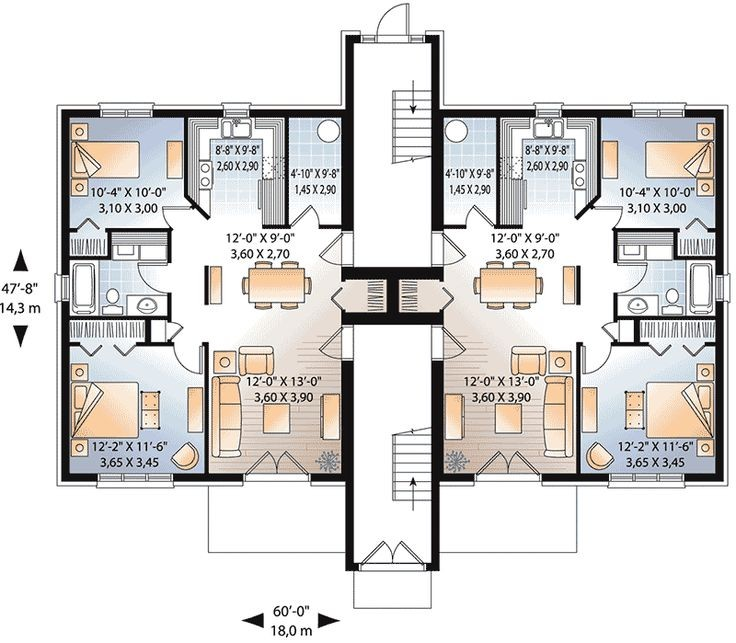door: (362, 527, 428, 581), (477, 439, 539, 493), (244, 443, 304, 481), (367, 1, 419, 44), (614, 254, 657, 301), (158, 192, 197, 236), (315, 321, 359, 360), (168, 333, 204, 377), (296, 201, 329, 240), (586, 334, 613, 380), (318, 232, 350, 260), (594, 203, 630, 226), (445, 328, 470, 361), (442, 243, 471, 265)
room: (443, 235, 584, 491), (205, 250, 349, 488), (63, 315, 209, 481), (579, 318, 727, 481), (432, 117, 594, 238), (190, 121, 349, 242), (597, 117, 719, 257), (66, 113, 185, 243), (58, 243, 201, 321), (605, 224, 720, 319)
wall: (339, 355, 364, 573), (427, 29, 453, 234), (338, 31, 363, 232), (710, 303, 732, 484), (709, 108, 733, 273), (57, 304, 77, 488), (432, 355, 449, 570), (56, 102, 76, 272), (339, 261, 450, 288), (615, 308, 718, 333), (572, 339, 589, 479), (179, 117, 201, 215), (66, 309, 174, 328), (435, 100, 529, 121), (565, 100, 635, 128), (279, 120, 296, 233), (492, 108, 507, 229), (255, 107, 355, 123), (174, 471, 249, 492), (542, 469, 610, 491), (306, 467, 361, 493), (592, 112, 606, 200), (152, 101, 225, 117), (62, 95, 102, 120), (690, 102, 728, 127), (674, 243, 721, 263), (612, 222, 682, 235), (347, 316, 448, 324), (687, 470, 727, 489), (255, 215, 293, 233), (441, 211, 467, 236), (199, 259, 212, 307), (64, 248, 107, 262), (608, 227, 623, 266), (605, 334, 649, 347), (109, 224, 170, 233), (60, 471, 99, 485), (163, 291, 181, 319), (165, 229, 180, 260), (444, 471, 478, 484), (577, 263, 585, 306), (606, 294, 619, 320), (498, 219, 524, 231)
window: (605, 466, 686, 488), (104, 99, 160, 122), (101, 470, 171, 483), (637, 98, 682, 118), (56, 274, 72, 300), (536, 100, 561, 116), (224, 103, 249, 117)
